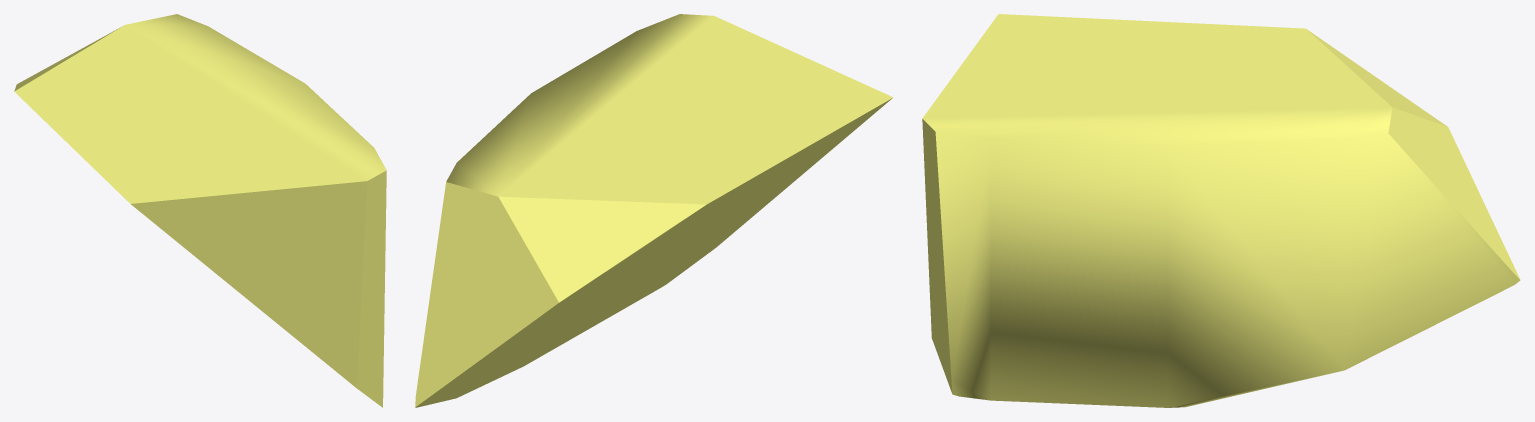
File: breakableCenter_cell_011.fbx
3 views of the same model, side by side, from view 1: azimuth 30°, elevation 25°; view 2: azimuth 150°, elevation 25°; view 3: azimuth 270°, elevation 25° (orthographic). The views are drawn at different scales.
Parts seen in each view (by area): view 1: breakableCenter_cell.011; view 2: breakableCenter_cell.011; view 3: breakableCenter_cell.011.
Boxes of the visible parts, x1=… form: breakableCenter_cell.011: x1=14, y1=14, x2=386, y2=407; breakableCenter_cell.011: x1=415, y1=14, x2=893, y2=407; breakableCenter_cell.011: x1=922, y1=14, x2=1520, y2=407.
Bounding box in the file's own units: 15.35 × 14.14 × 29.31.
